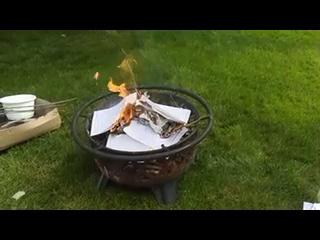Fire: (105, 53, 152, 133)
